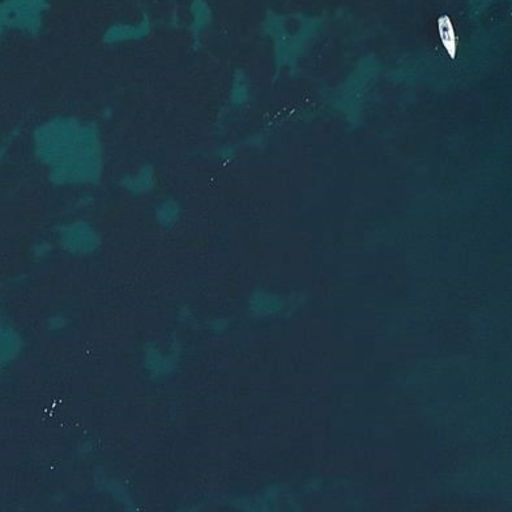ship: (434, 13, 460, 61)
